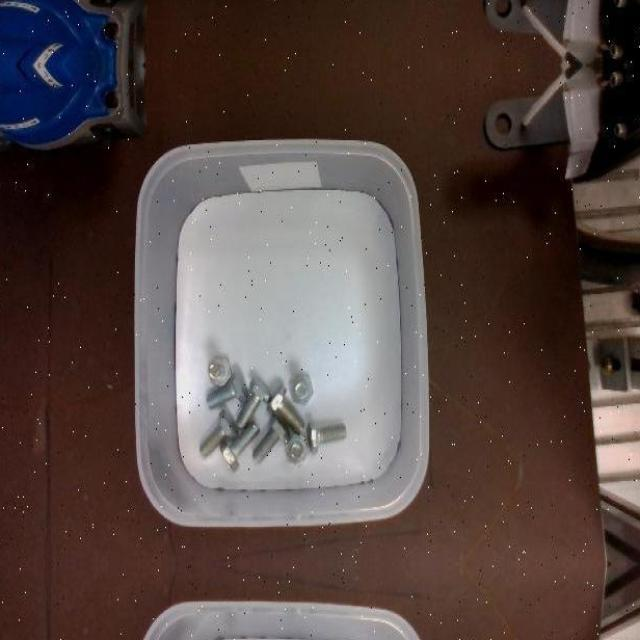screw: (219, 422, 261, 472), (235, 374, 272, 427), (267, 384, 307, 433), (199, 408, 239, 457), (251, 413, 290, 462), (205, 372, 247, 408), (308, 420, 347, 454), (284, 434, 310, 465), (290, 372, 313, 404), (207, 355, 230, 386)
